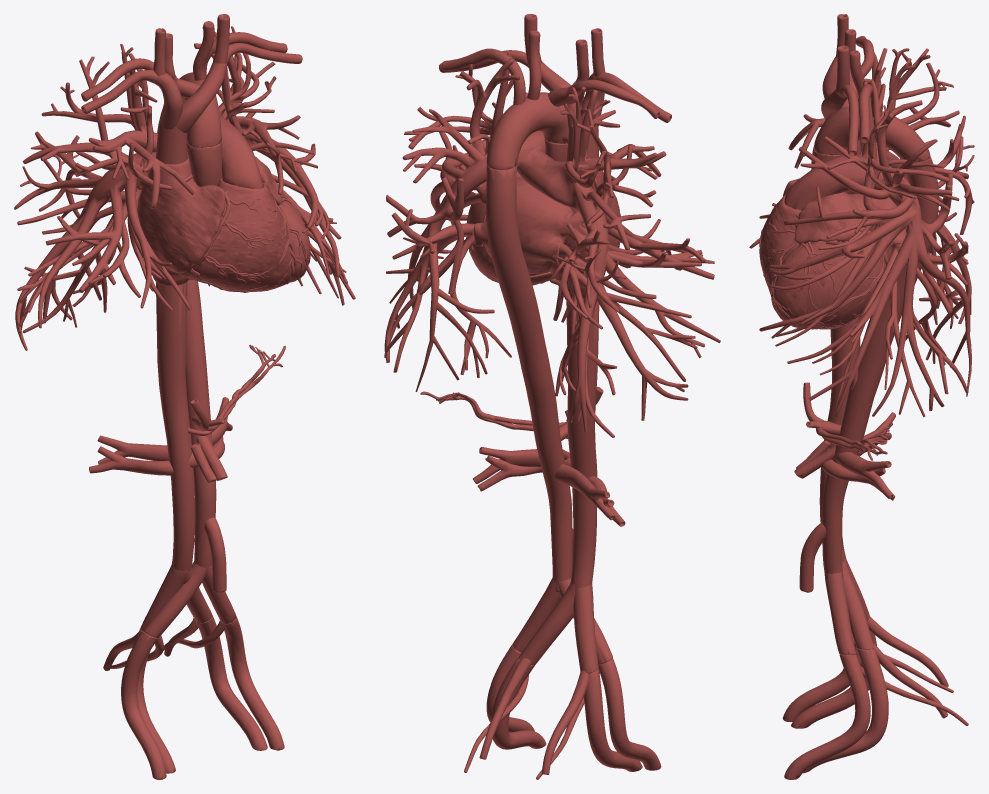
Rendered from cardiovascular.glb.
3 renders of one model, left to right at view 1: azimuth 30°, elevation 25°; view 2: azimuth 150°, elevation 25°; view 3: azimuth 270°, elevation 25°, orthographic. The views are drawn at different scales.
Visible parts, largest first — view 1: FMA66326, FMA7274, FMA66643, FMA10951, FMA3784, FMA18806, FMA18886, FMA18807, FMA4761, FMA14765, FMA3768, FMA3736 (+17 smaller); view 2: FMA66326, FMA66643, FMA3784, FMA7274, FMA10951, FMA3768, FMA18806, FMA18885, FMA21387, FMA21388, FMA18886, FMA4694 (+12 smaller); view 3: FMA66326, FMA66643, FMA7274, FMA3784, FMA18807, FMA3768, FMA18886, FMA10951, FMA14766, FMA21388, FMA18806, FMA18885 (+17 smaller).
Part boxes in pixels (<box>): FMA66326: <box>14,27,355,350</box>; FMA7274: <box>137,155,310,291</box>; FMA66643: <box>17,26,346,333</box>; FMA10951: <box>156,282,195,577</box>; FMA3784: <box>157,111,216,575</box>; FMA18806: <box>121,631,166,779</box>; FMA18886: <box>196,615,267,750</box>; FMA18807: <box>223,615,284,750</box>; FMA4761: <box>176,62,227,132</box>; FMA14765: <box>143,562,206,637</box>; FMA3768: <box>179,72,221,147</box>; FMA3736: <box>186,142,222,186</box>; FMA66326: <box>384,58,720,432</box>; FMA66643: <box>384,53,714,437</box>; FMA3784: <box>485,165,572,592</box>; FMA7274: <box>466,170,621,299</box>; FMA10951: <box>566,299,599,592</box>; FMA3768: <box>486,92,568,169</box>; FMA18806: <box>598,658,661,770</box>; FMA18885: <box>583,669,642,771</box>; FMA21387: <box>573,584,598,673</box>; FMA21388: <box>518,583,576,665</box>; FMA18886: <box>491,657,546,749</box>; FMA4694: <box>441,48,525,104</box>; FMA66326: <box>749,48,974,416</box>; FMA66643: <box>767,48,974,417</box>; FMA7274: <box>759,151,906,329</box>; FMA3784: <box>821,156,938,577</box>; FMA18807: <box>784,654,870,779</box>; FMA3768: <box>813,106,930,162</box>; FMA18886: <box>803,649,888,773</box>; FMA10951: <box>819,316,860,561</box>; FMA14766: <box>824,572,856,654</box>; FMA21388: <box>842,559,873,649</box>; FMA18806: <box>782,647,860,722</box>; FMA18885: <box>791,631,876,728</box>.
Size of the model in its own units: 0.2479 by 0.5666 by 0.1614.
